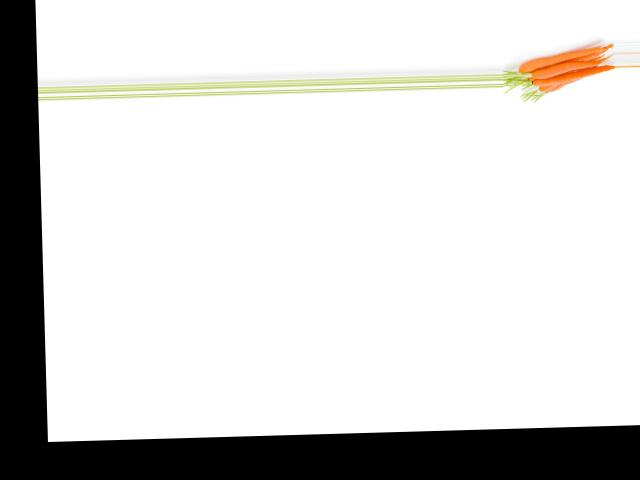carrot: (515, 47, 613, 67)
